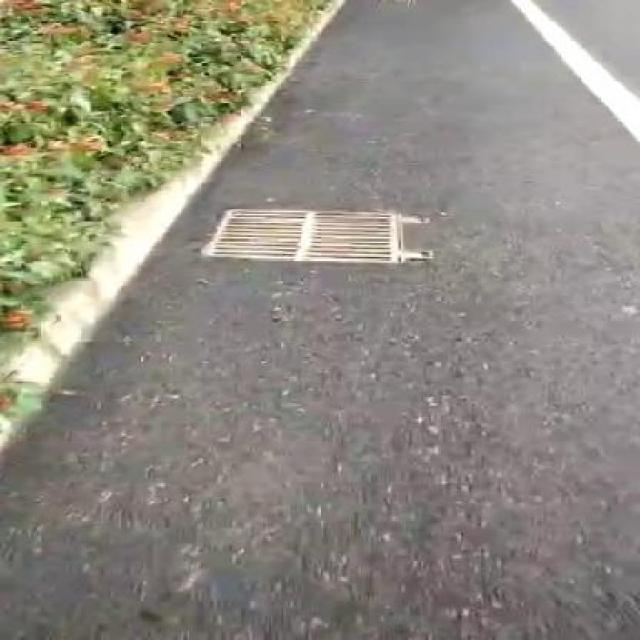Manhole: (196, 206, 430, 272)
